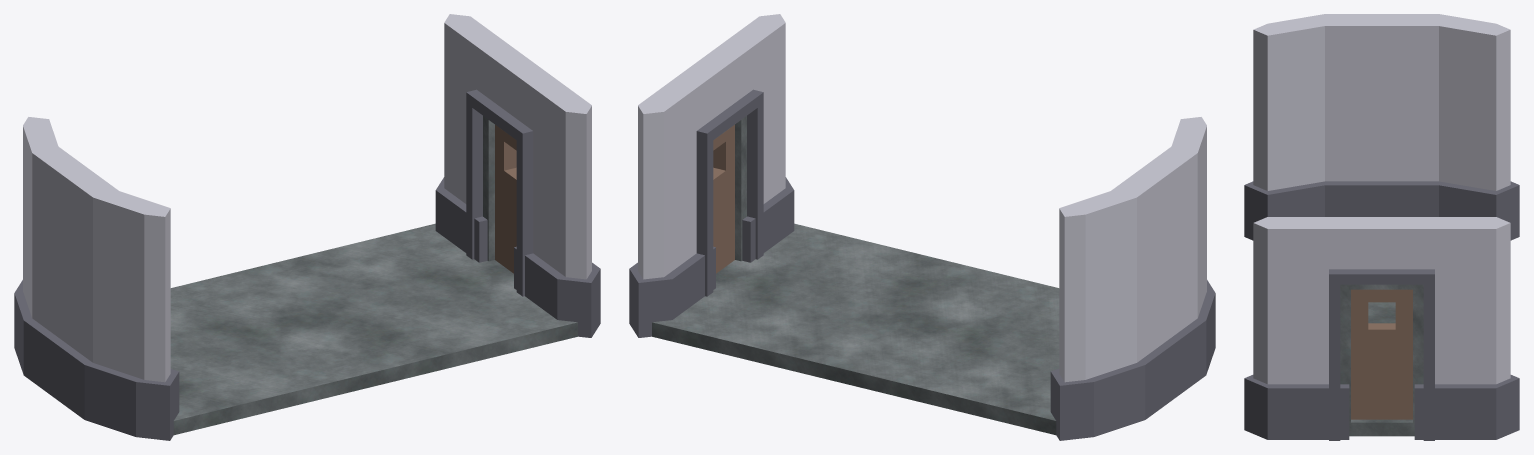
Rendered from hallway_short_07.fbx.
3 renders of one model, left to right at view 1: azimuth 30°, elevation 25°; view 2: azimuth 150°, elevation 25°; view 3: azimuth 270°, elevation 25°, orthographic. The views are drawn at different scales.
Parts seen in each view (by area): view 1: floor_05_105, wall_03_101, door_02_107; view 2: floor_05_105, wall_03_101, door_02_107; view 3: door_02_107, wall_03_101, floor_05_105.
Part boxes in pixels (left/top/right/bottom): floor_05_105: left=170, top=223, right=577, bottom=435; wall_03_101: left=14, top=117, right=179, bottom=440; door_02_107: left=435, top=14, right=600, bottom=337; floor_05_105: left=652, top=223, right=1059, bottom=435; wall_03_101: left=1050, top=117, right=1215, bottom=440; door_02_107: left=629, top=14, right=794, bottom=337; door_02_107: left=1244, top=217, right=1519, bottom=440; wall_03_101: left=1244, top=14, right=1519, bottom=240; floor_05_105: left=1349, top=302, right=1412, bottom=436.
Size of the model in its own units: 23.15 by 10 by 12.05.
